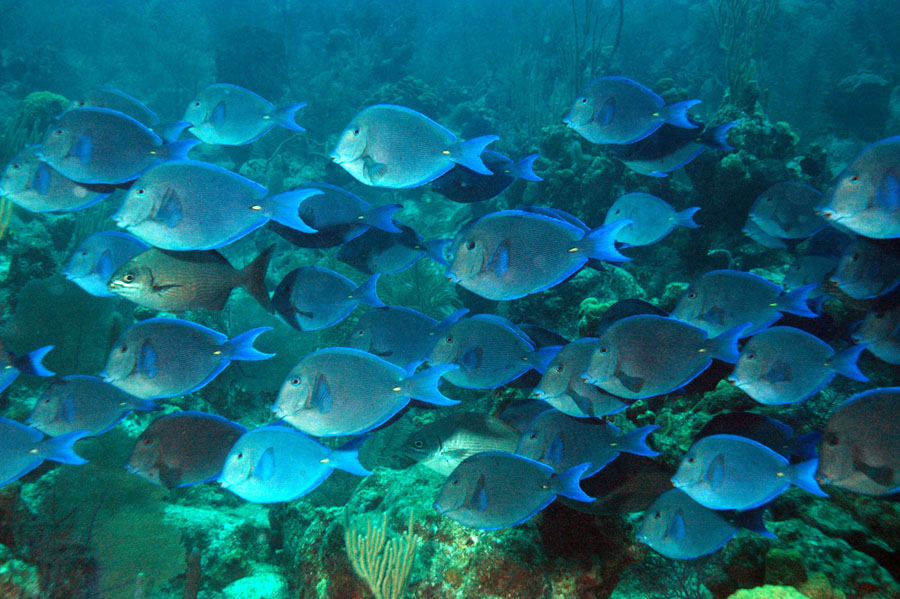Acanthurus_coeruleus: (9, 81, 899, 552)
